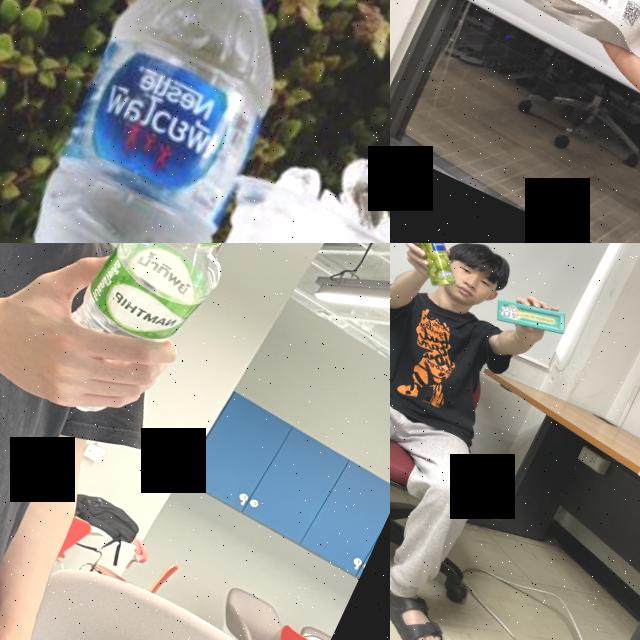bottle: (0, 0, 347, 243), (34, 243, 246, 441)
can: (397, 243, 475, 295)
cup: (63, 169, 390, 243)
